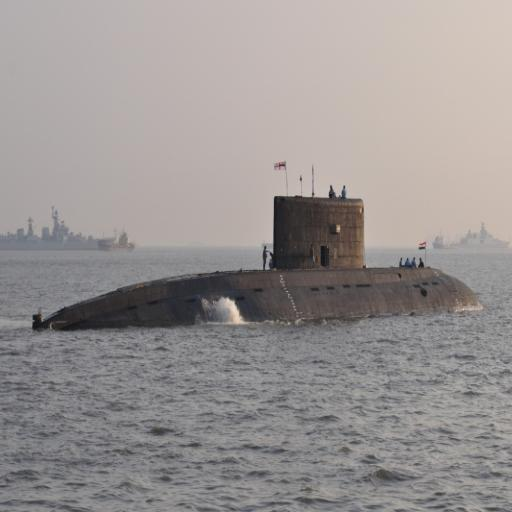submarine: (32, 202, 492, 335)
